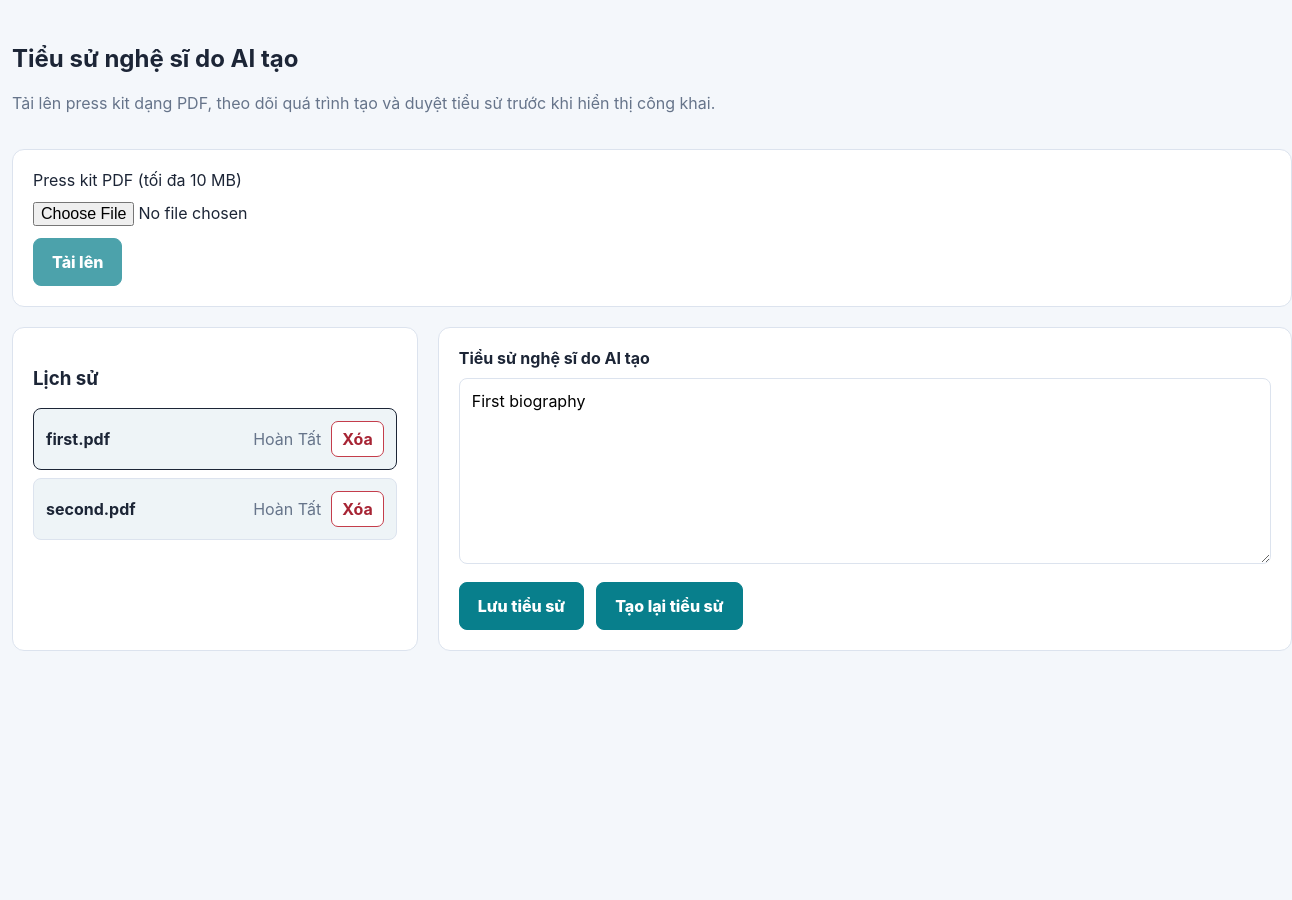
Test: AI artist biography UI › deletes a history item and selects the next remaining document
Expected: the text box labelled "Tiểu sử nghệ sĩ do AI tạo" holds "First biography", [459,378,1271,564]
Step 1. Click the 1st button "Xóa" → (357, 439), box [331,421,384,457]
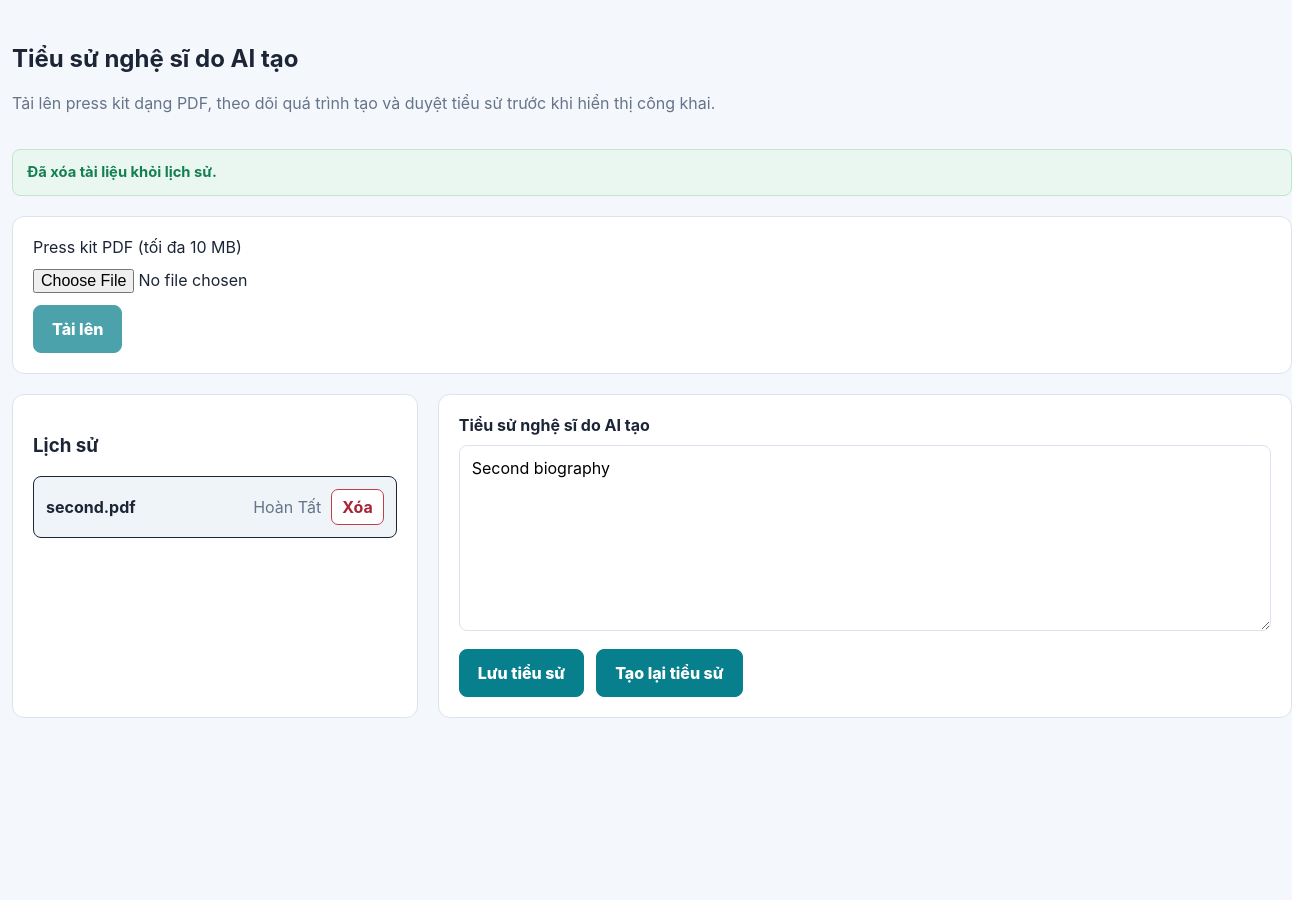
Expected: the text "second.pdf" is shown, [46,497,136,517]
Expected: the button "first.pdf" is gone
Expected: the text box labelled "Tiểu sử nghệ sĩ do AI tạo" holds "Second biography", [459,445,1271,631]
